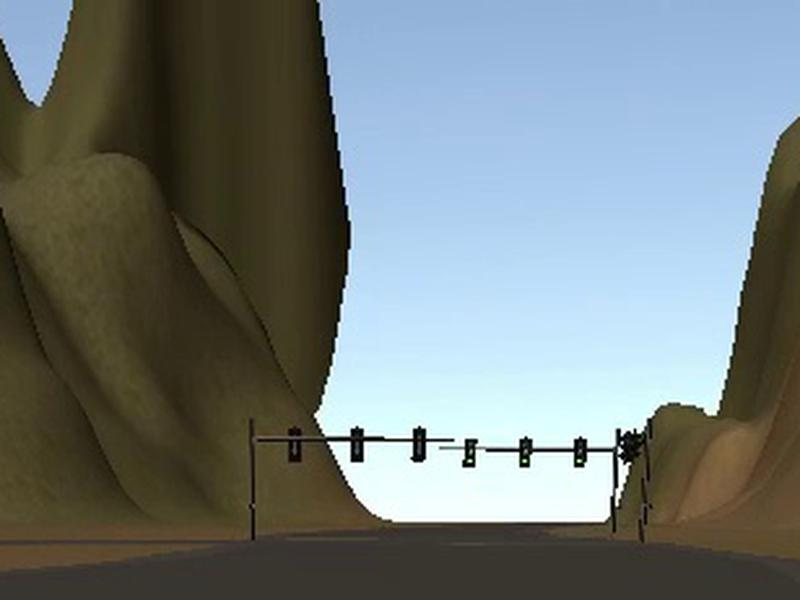Green: (460, 437, 478, 467), (573, 438, 589, 467), (519, 437, 534, 467)
